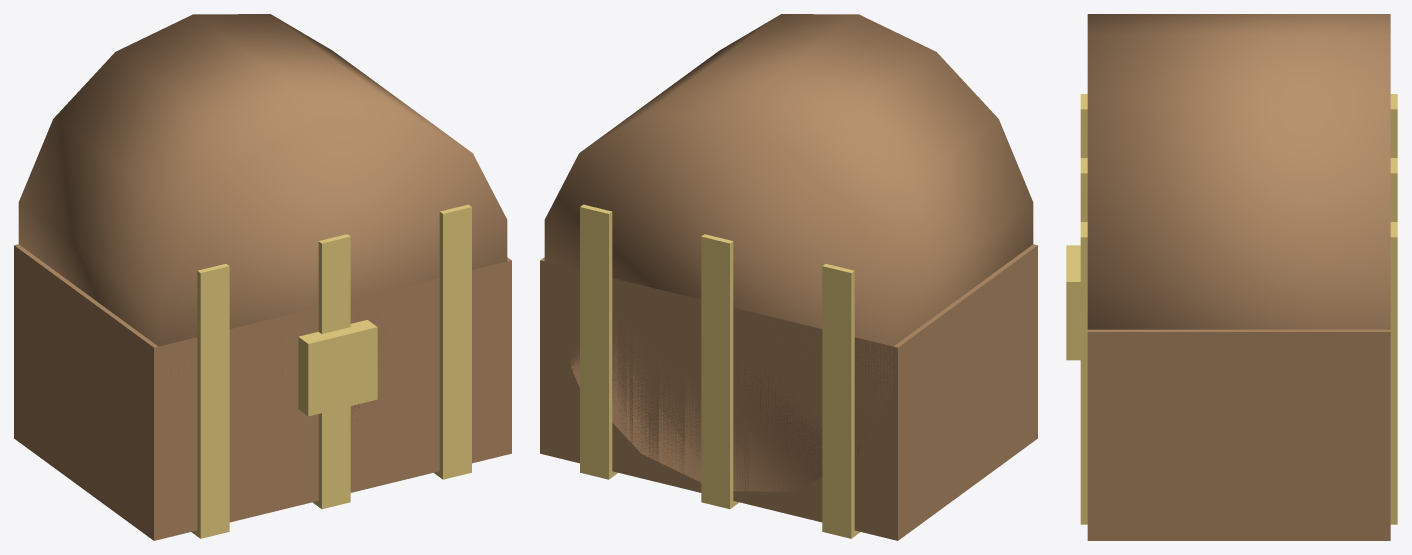
Rendered from treasure_chest.fbx.
3 views of the same model, side by side, from view 1: azimuth 30°, elevation 25°; view 2: azimuth 150°, elevation 25°; view 3: azimuth 270°, elevation 25° (orthographic). The views are drawn at different scales.
Parts seen in each view (by area): view 1: Chest; view 2: Chest; view 3: Chest.
Part boxes in pixels (x1,y1,x2,y2): Chest: (14, 14, 511, 540); Chest: (540, 14, 1037, 540); Chest: (1066, 14, 1397, 540).
Bounding box in the file's own units: 1.24 × 1.28 × 0.92.
